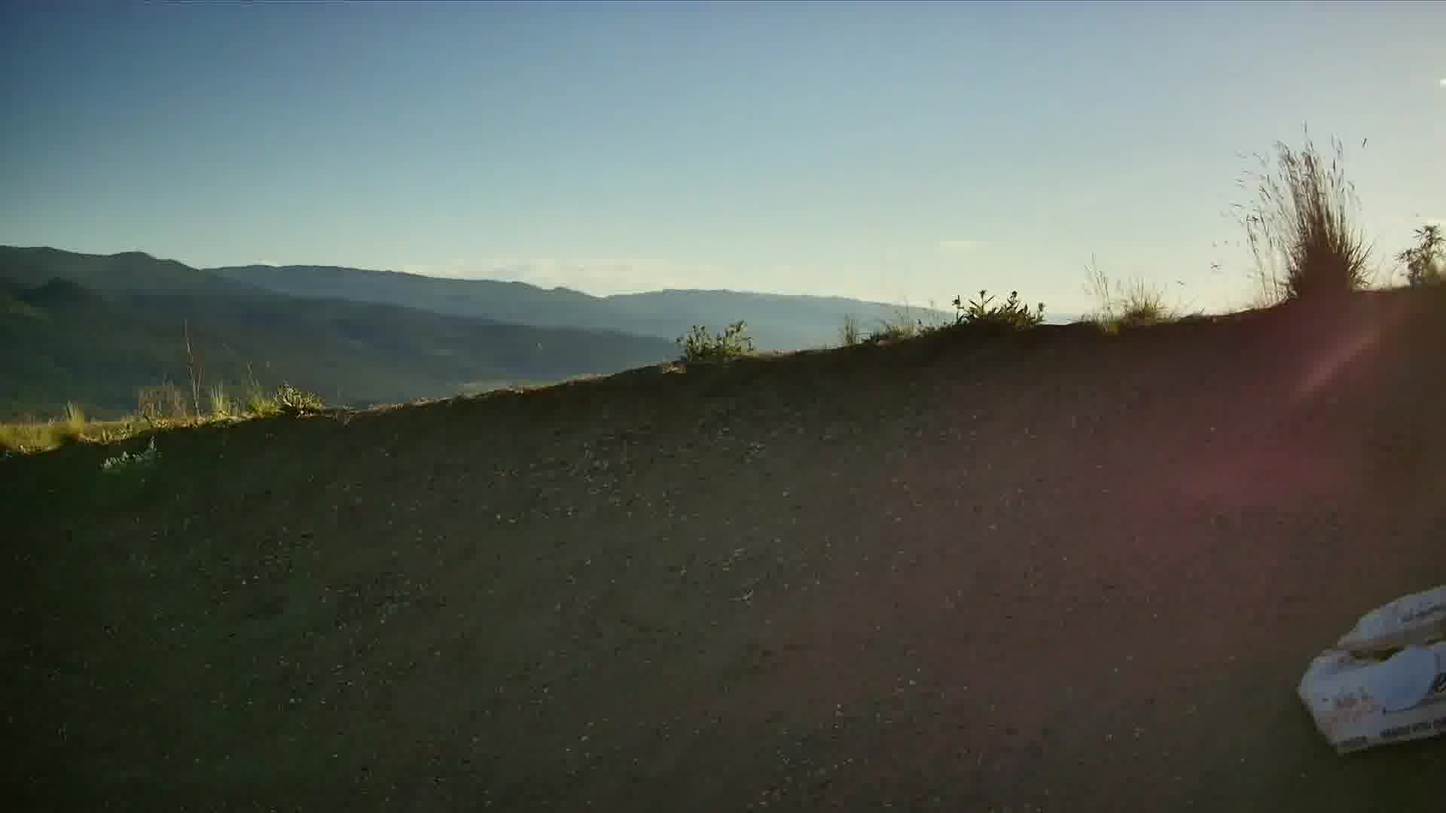Target: (1372, 649, 1433, 712)
